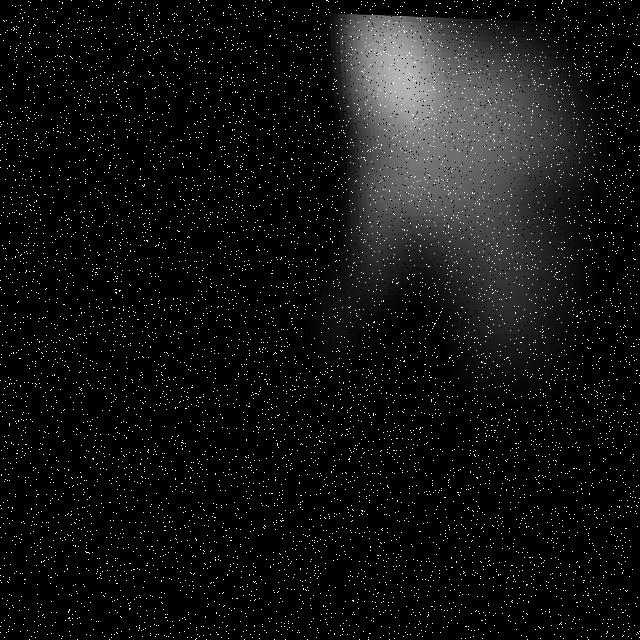person: (300, 10, 618, 447)
